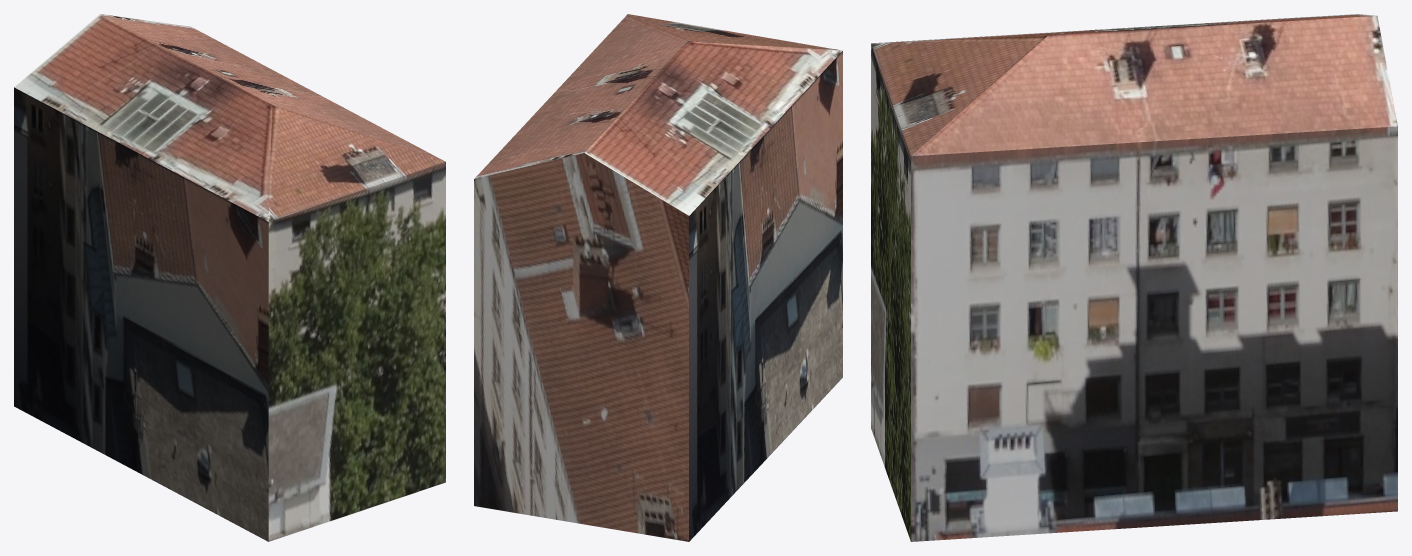
3 views of the same model, side by side, from view 1: azimuth 30°, elevation 25°; view 2: azimuth 150°, elevation 25°; view 3: azimuth 270°, elevation 25° (orthographic). The views are drawn at different scales.
Parts seen in each view (by area): view 1: Z_UP; view 2: Z_UP; view 3: Z_UP.
Boxes of the visible parts, box(x1,y1,x2,y2) form: Z_UP: box(14, 14, 445, 541); Z_UP: box(474, 14, 842, 541); Z_UP: box(871, 14, 1397, 541).
Size of the model in its own units: 13.75 by 19.46 by 21.22.
Materials: 2 (1 with a texture image).
